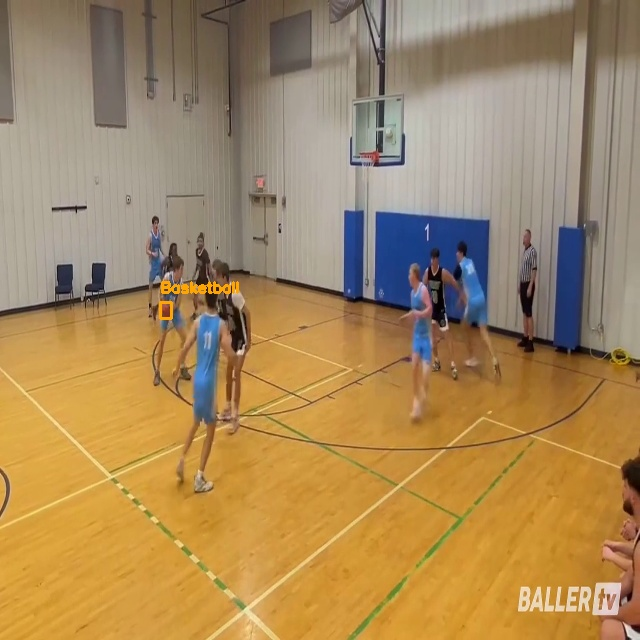Basketball: (160, 302, 171, 318)
